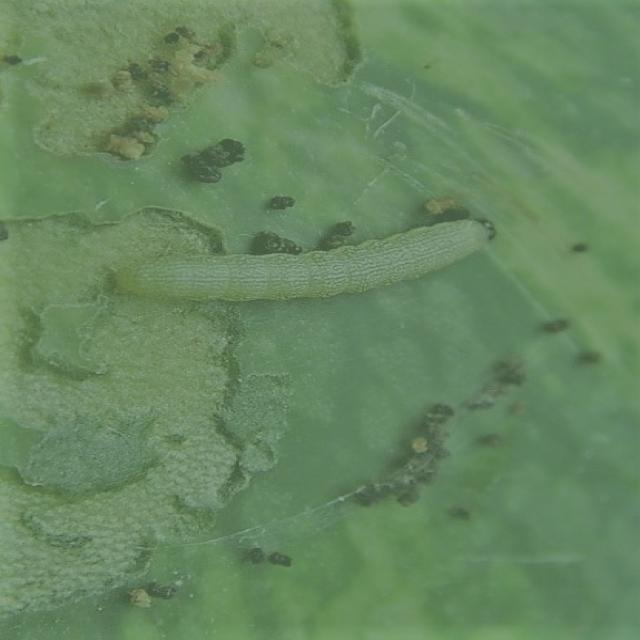armyworm: (111, 215, 497, 303)
